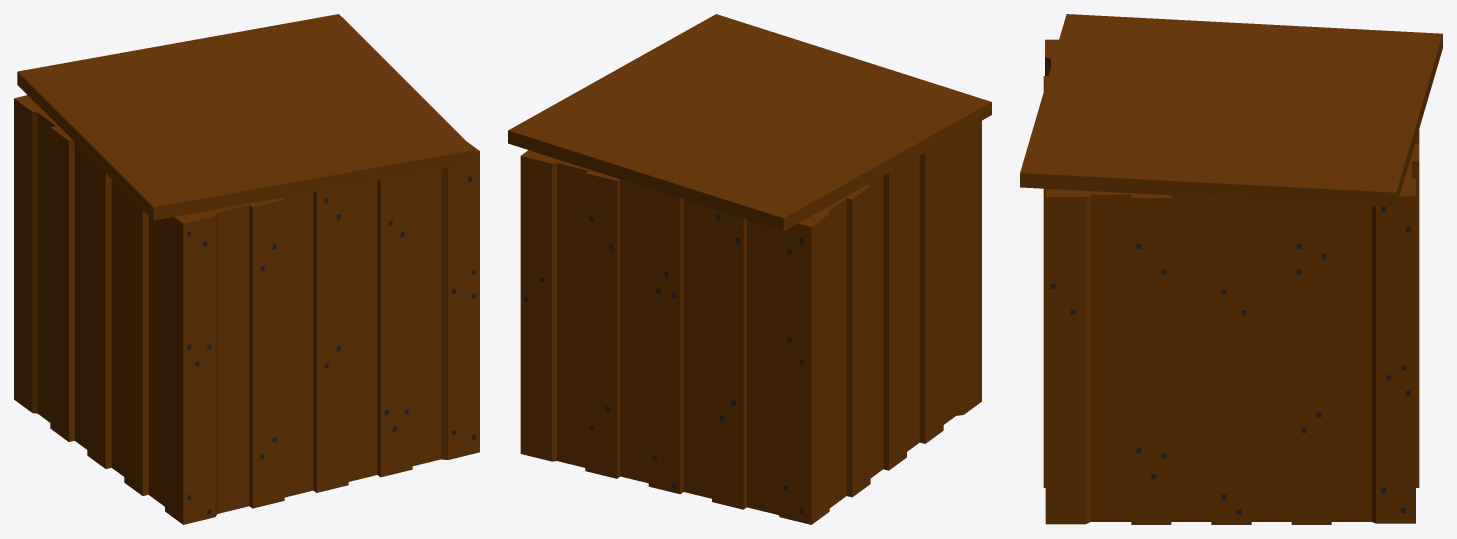
File: woodBoxLitNails.fbx
3 views of the same model, side by side, from view 1: azimuth 30°, elevation 25°; view 2: azimuth 150°, elevation 25°; view 3: azimuth 270°, elevation 25° (orthographic). The views are drawn at different scales.
Visible parts, largest first — view 1: Cube; view 2: Cube; view 3: Cube.
Part boxes in pixels (left/top/right/bottom): Cube: left=14, top=14, right=479, bottom=524; Cube: left=508, top=14, right=991, bottom=524; Cube: left=1020, top=14, right=1442, bottom=524.
Size of the model in its own units: 234 by 209 by 234.
